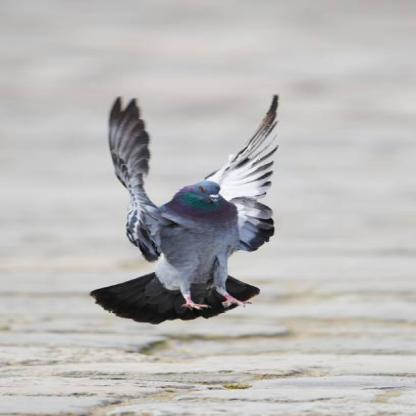Rock Pigeon: (99, 102, 277, 322)
